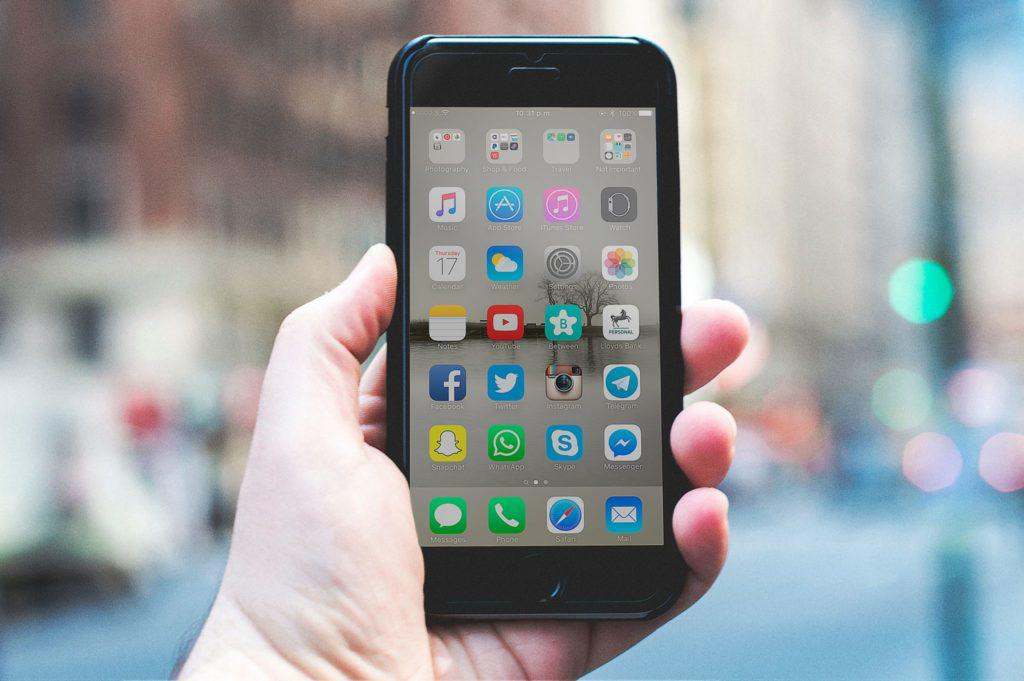Hand: (253, 247, 785, 681)
Smartphone: (396, 40, 688, 594)
